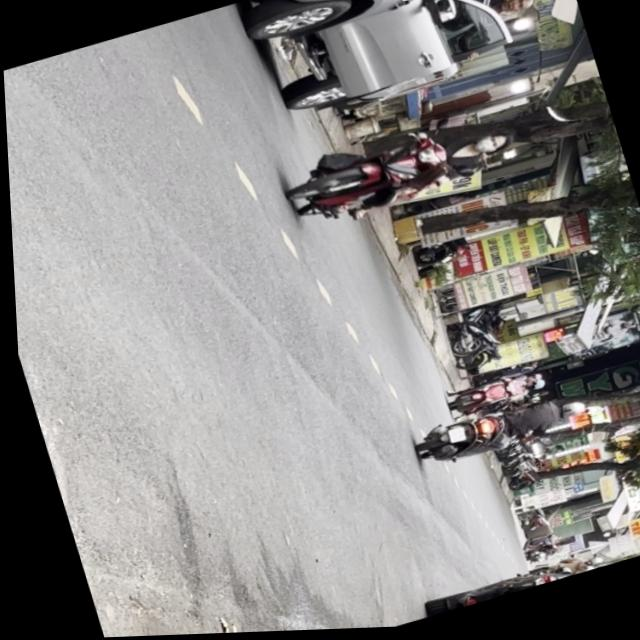licenseplate: (271, 103, 521, 239)
motorcyclist: (464, 131, 513, 163)
